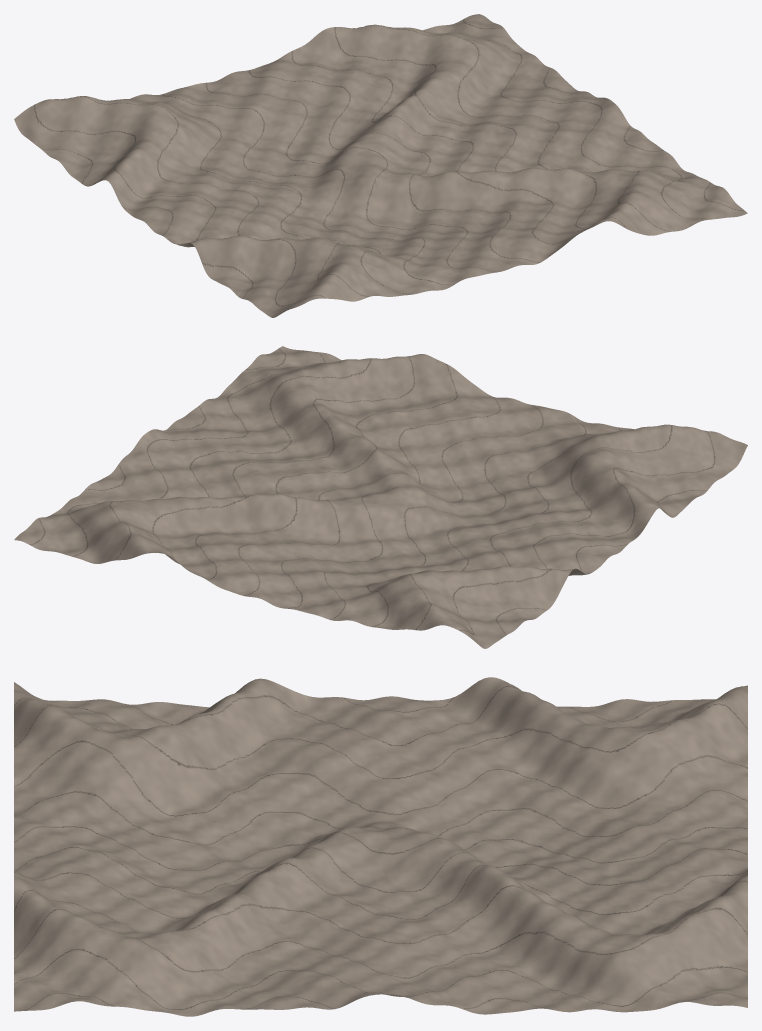
Rendered from pluto_landscape.glb.
3 views of the same model, one above another, from view 1: azimuth 30°, elevation 25°; view 2: azimuth 150°, elevation 25°; view 3: azimuth 270°, elevation 25° (orthographic). The views are drawn at different scales.
Visible parts, largest first — view 1: Pluto Landscape; view 2: Pluto Landscape; view 3: Pluto Landscape.
Boxes of the visible parts, box(x1,y1,x2,y2) form: Pluto Landscape: box(14, 14, 747, 317); Pluto Landscape: box(14, 346, 747, 648); Pluto Landscape: box(14, 677, 747, 1016).
Size of the model in its own units: 760 by 68.41 by 760.
1 material, 1 textured.
